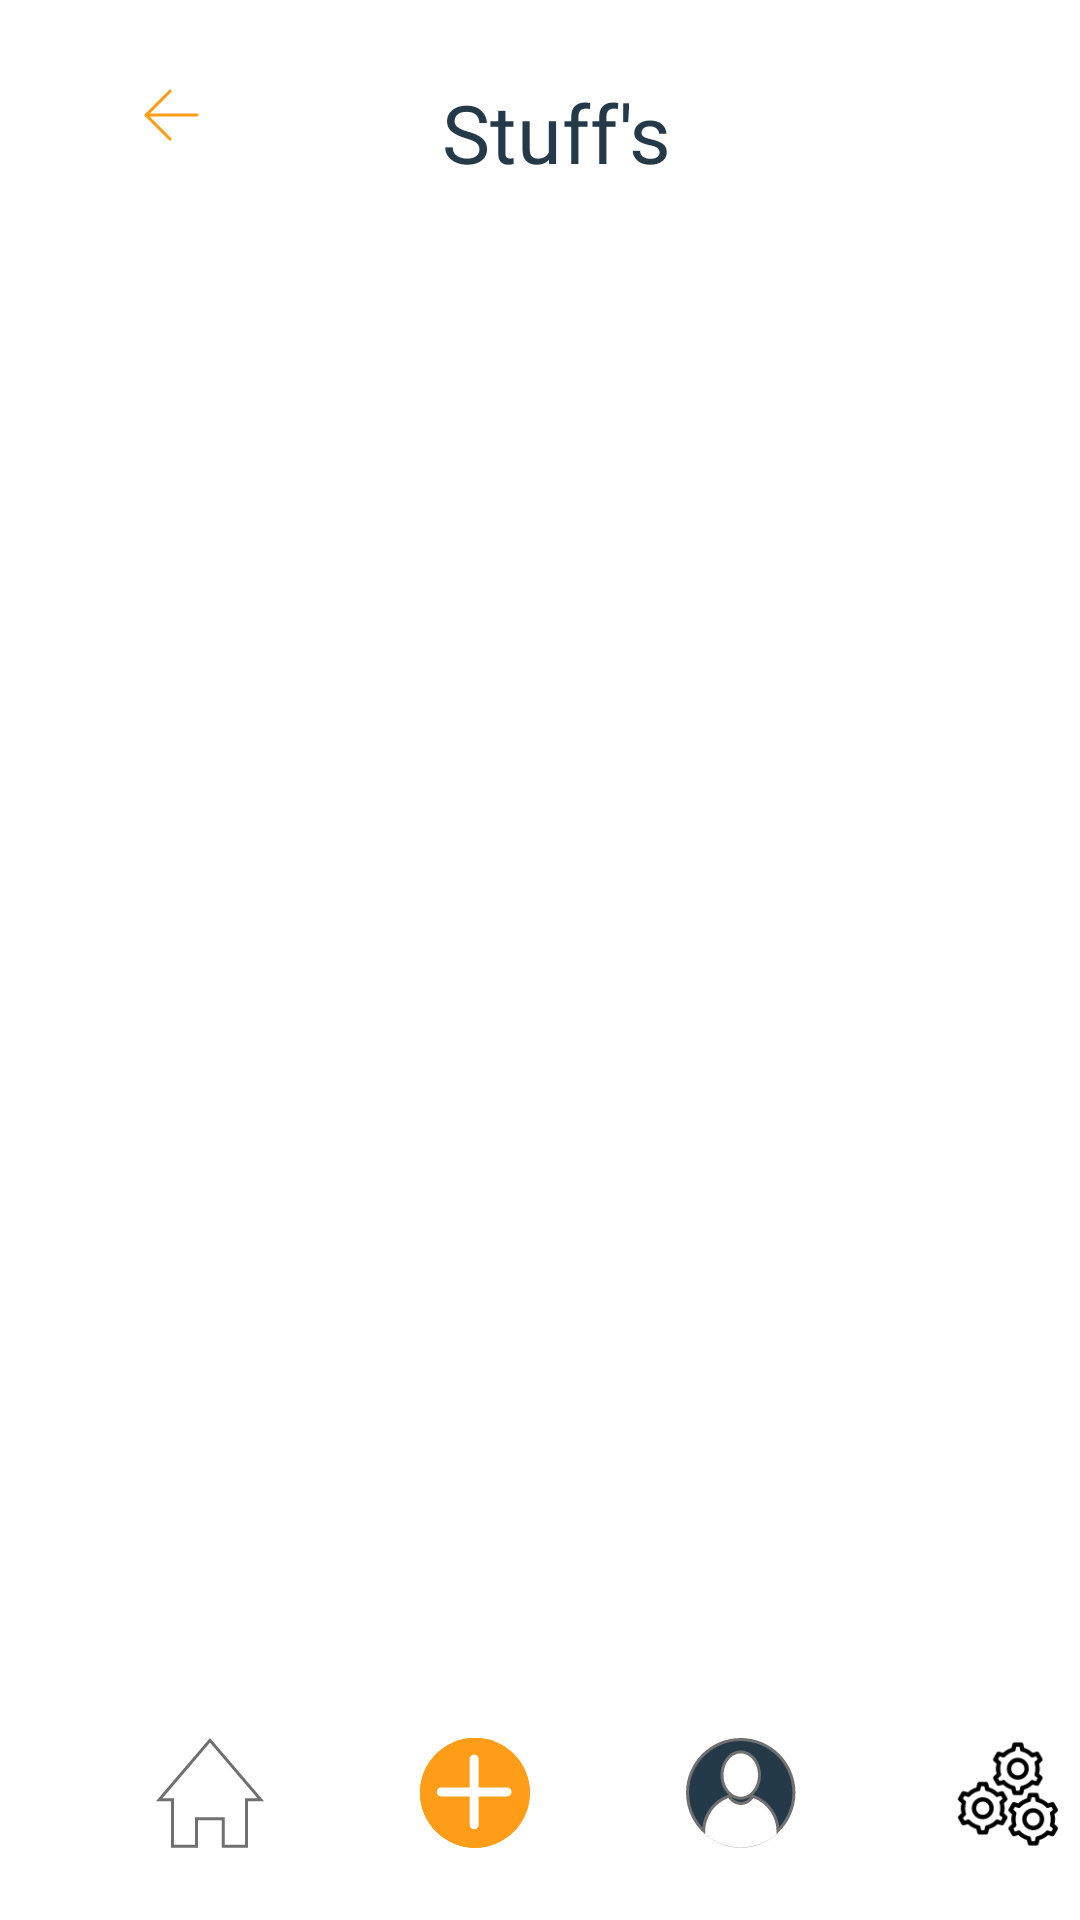

Screen size 1080 × 1920. Icon name, then its center in pixels as (x,y):
add action: (475,1793)
back arrow: (171,115)
home: (210,1793)
profile: (741,1793)
settings: (1007,1794)
